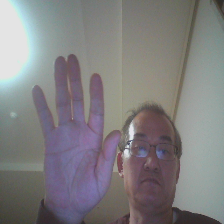hand: (32, 54, 126, 214)
